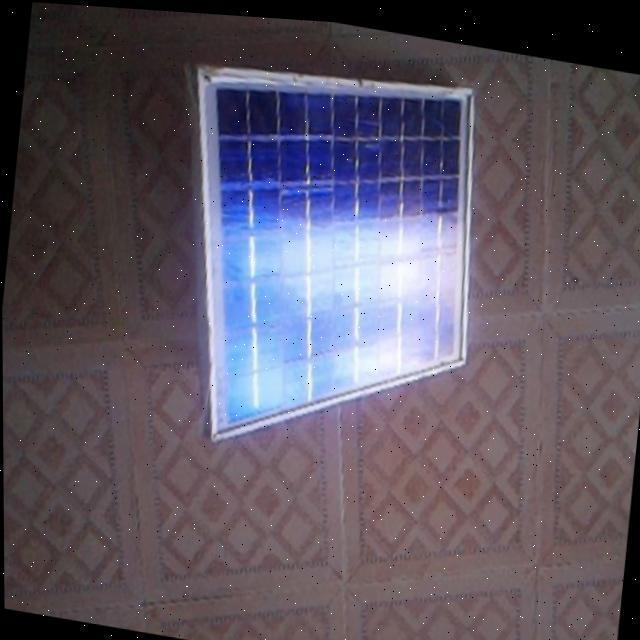Normal Solar Panel: (162, 38, 492, 470)
